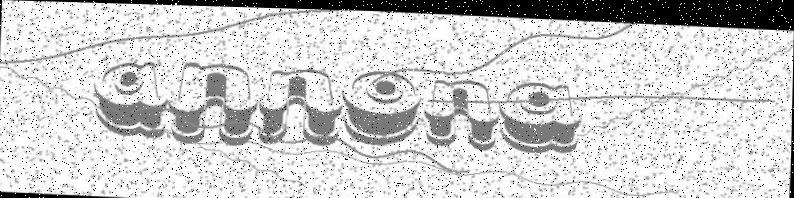a: (91, 57, 170, 138), (499, 76, 582, 153)
n: (167, 59, 261, 147), (258, 64, 344, 145), (421, 74, 500, 148)
o: (342, 65, 422, 144)
